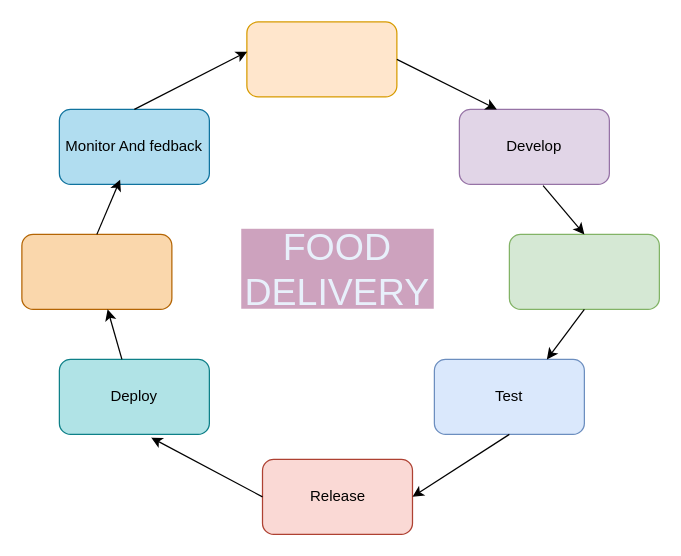
This 681x556 diagram has some shape labels left out. The centre of each missing label's shape, as x and y in pixels:
Build: point (583, 271)
Operate: point (96, 271)
Plan: point (321, 59)
